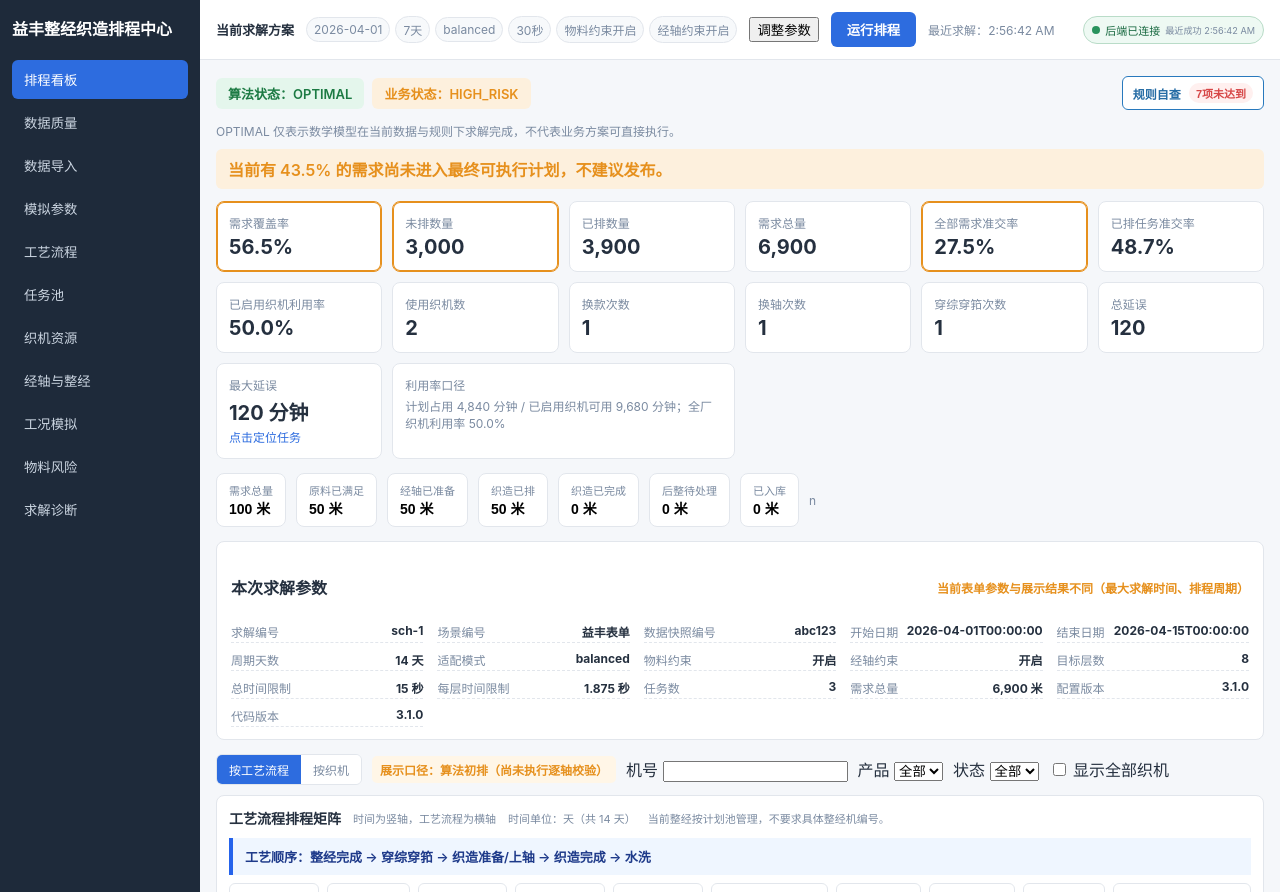
it: App › 任务池页可进入并展示任务表格
Click the button "任务池": (100, 294) top-left (12, 275), bottom-right (188, 314)
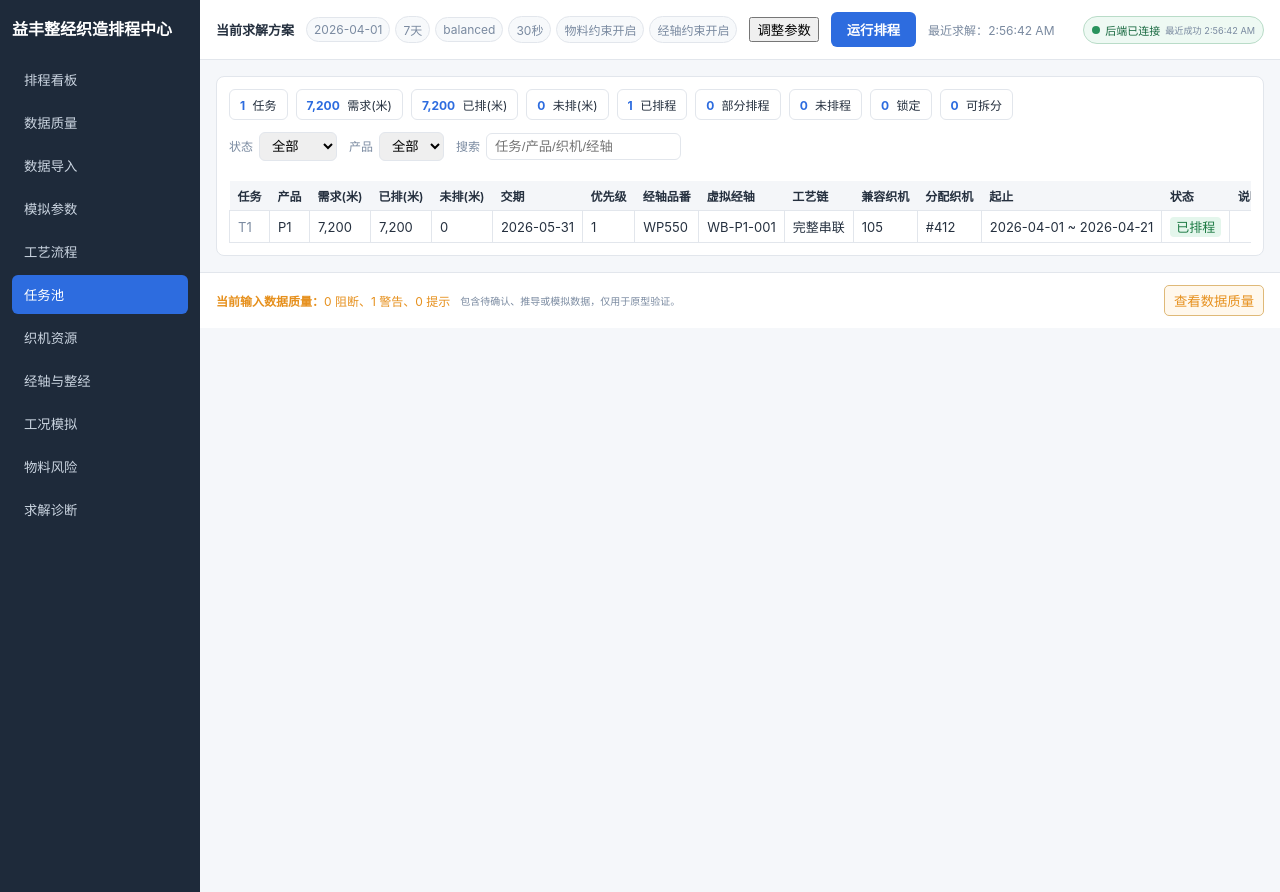
Expected: the element with test id "tasks-page" is shown, top-left (216, 76), bottom-right (1264, 256)
Expected: the number of rows with test id "task-row" is 1, top-left (230, 210), bottom-right (1251, 242)
Expected: the text "T1" is shown, top-left (230, 210), bottom-right (270, 242)
